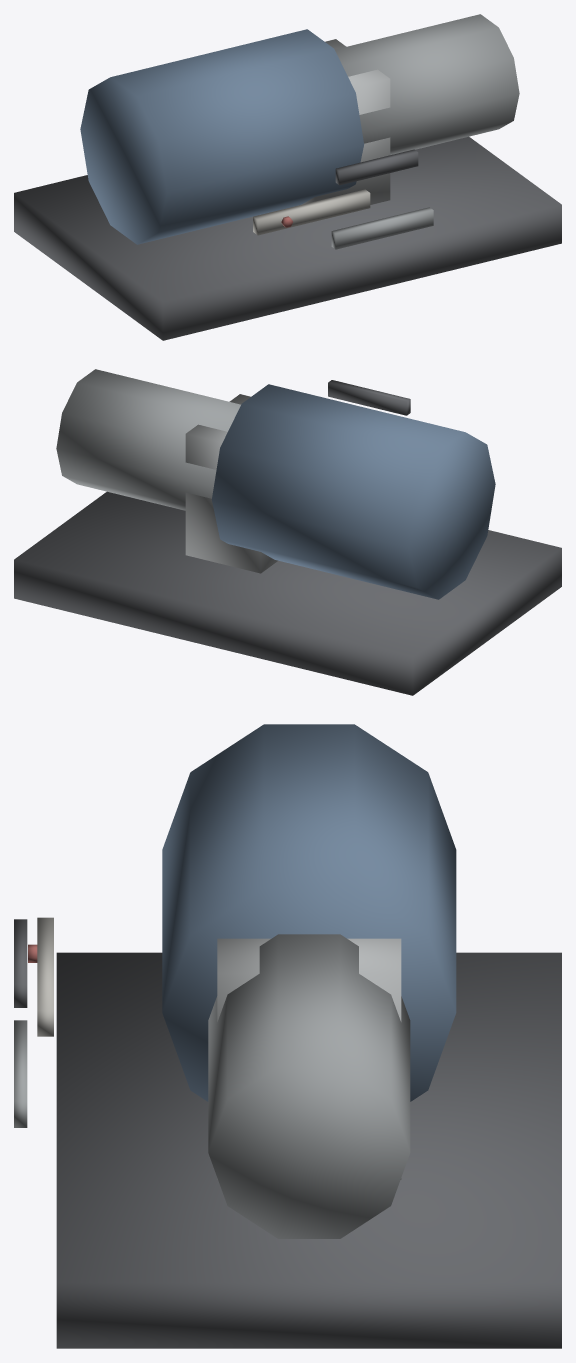
Rendered from pump_skid__weathered.glb.
3 views of the same model, one above another, from view 1: azimuth 30°, elevation 25°; view 2: azimuth 150°, elevation 25°; view 3: azimuth 270°, elevation 25° (orthographic). The views are drawn at different scales.
Parts seen in each view (by area): view 1: world; view 2: world; view 3: world.
Part boxes in pixels (x1,y1,x2,y2): world: (14, 14, 561, 340); world: (14, 369, 561, 695); world: (14, 724, 561, 1348).
Size of the model in its own units: 0.855 by 0.3882 by 0.5964.
